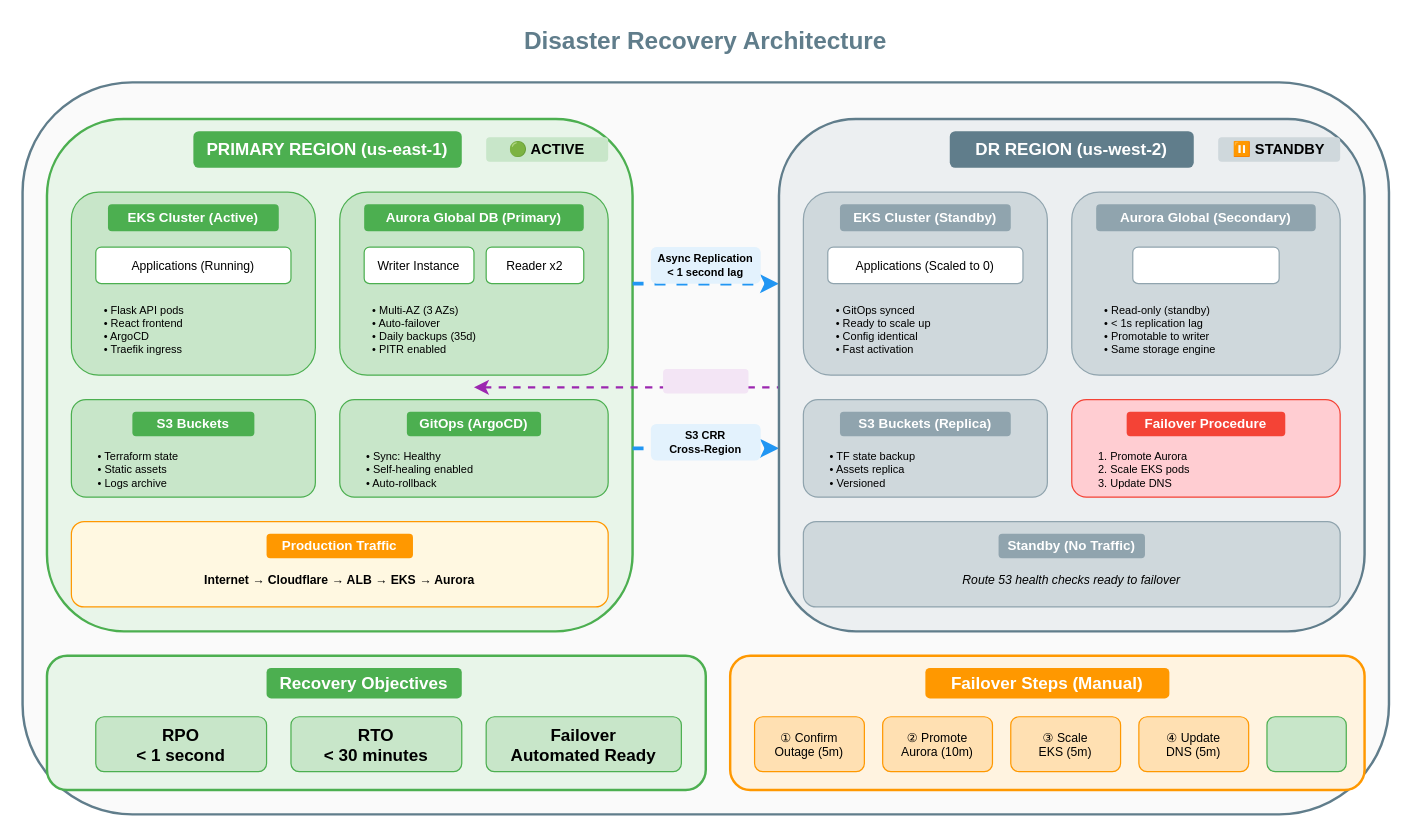
Image size: 1410x836. Some labels were removed from this diagram. Here are the shapes that lost their labels. From the top down, the centre of each, then its label:
At pixel 1205 265: "Read Replicas".
At pixel 705 380: "GitOps Sync".
At pixel 1306 744: "⑤ Verify (5m)".
